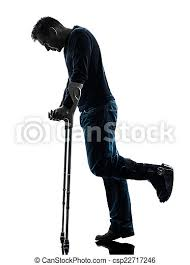crutches: (30, 16, 174, 256)
